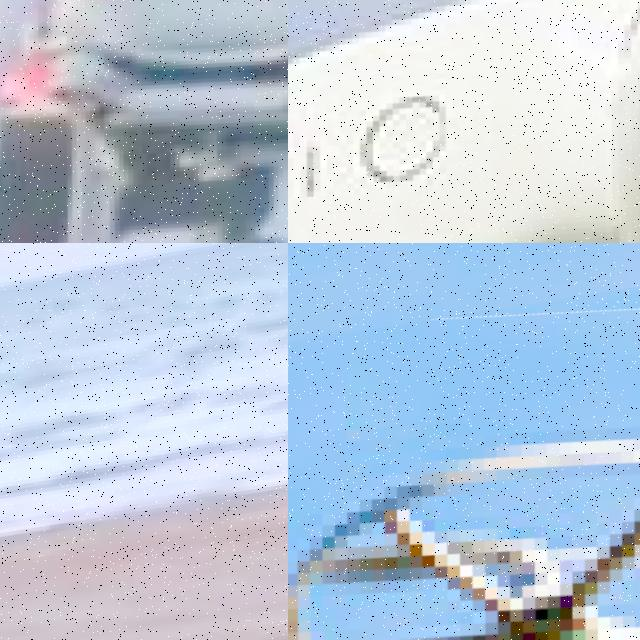drone: (288, 280, 640, 640), (288, 0, 640, 243), (0, 0, 288, 243)
